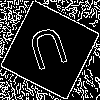U: (25, 25, 74, 80)
